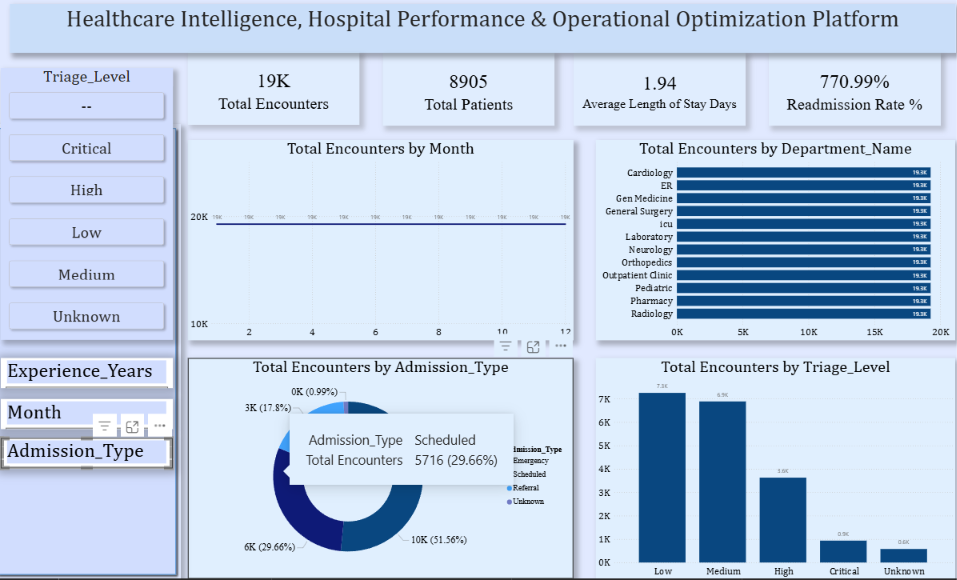

The dashboard page shown, as its layout file describes it:
{"tool":"powerbi","page":{"name":"Executive Hospital Performance","canvas":[2000,1200],"ordinal":0},"visuals":[{"type":"card","fields":{"Values":["healthcare bed_occupancy_clean.Total Encounters"]},"box":[398.6,122.6,351.4,148.6],"z":0},{"type":"card","fields":{"Values":["healthcare bed_occupancy_clean.Total Patients"]},"box":[797.2,125,351.4,148.6],"z":1000},{"type":"card","fields":{"Values":["healthcare bed_occupancy_clean.Average Length of Stay Days"]},"box":[1188.7,125,351.4,148.6],"z":2000},{"type":"card","fields":{"Values":["healthcare bed_occupancy_clean.Readmission Rate %"]},"box":[1587.3,125,351.4,148.6],"z":3000},{"type":"lineChart","fields":{"Category":["healthcare calendar_clean.Month"],"Y":["healthcare bed_occupancy_clean.Total Encounters"]},"box":[398.8,302.3,789,409.5],"z":4000},{"type":"clusteredColumnChart","fields":{"Y":["healthcare bed_occupancy_clean.Total Encounters"],"Category":["healthcare encounters_clean.Triage_Level"]},"box":[1232.9,748.3,735.4,452.4],"z":5000},{"type":"donutChart","fields":{"Category":["healthcare encounters_clean.Admission_Type"],"Y":["healthcare bed_occupancy_clean.Total Encounters"]},"box":[398.8,748.3,789,452.4],"z":6000},{"type":"clusteredBarChart","fields":{"Category":["healthcare departments_clean.Department_Name"],"Y":["healthcare bed_occupancy_clean.Total Encounters"]},"box":[1232.9,302.3,735.4,409.5],"z":7000},{"type":"shape","box":[0,270.2,383.8,930.5],"z":8000},{"type":"slicer","fields":{"Values":["healthcare staff_clean.Experience_Years"]},"box":[16.4,748.5,351.7,61.4],"z":9000},{"type":"slicer","fields":{"Values":["healthcare encounters_clean.Admission_Type"]},"box":[16.4,912.1,351.7,63.4],"z":10000},{"type":"slicer","fields":{"Values":["healthcare calendar_clean.Month"]},"box":[16.4,832.3,351.7,61.4],"z":11000},{"type":"advancedSlicerVisual","fields":{"Values":["healthcare encounters_clean.Triage_Level"]},"box":[16.4,155.4,351.7,556.2],"z":12000},{"type":"textbox","box":[34.8,24.5,1934.6,100.2],"z":21000}]}

Visuals, with their boxes in screenshot pixels (x1, y1, x2, y2), scaled from the page's 2000x1200 canvas onto the 957x580 screenshot:
card - healthcare bed_occupancy_clean.Total Encounters: bbox=[191, 59, 359, 131]
card - healthcare bed_occupancy_clean.Total Patients: bbox=[381, 60, 550, 132]
card - healthcare bed_occupancy_clean.Average Length of Stay Days: bbox=[569, 60, 737, 132]
card - healthcare bed_occupancy_clean.Readmission Rate %: bbox=[760, 60, 928, 132]
lineChart - healthcare calendar_clean.Month x healthcare bed_occupancy_clean.Total Encounters: bbox=[191, 146, 568, 344]
clusteredColumnChart - healthcare bed_occupancy_clean.Total Encounters x healthcare encounters_clean.Triage_Level: bbox=[590, 362, 942, 579]
donutChart - healthcare encounters_clean.Admission_Type x healthcare bed_occupancy_clean.Total Encounters: bbox=[191, 362, 568, 579]
clusteredBarChart - healthcare departments_clean.Department_Name x healthcare bed_occupancy_clean.Total Encounters: bbox=[590, 146, 942, 344]
shape: bbox=[0, 131, 184, 579]
slicer - healthcare staff_clean.Experience_Years: bbox=[8, 362, 176, 391]
slicer - healthcare encounters_clean.Admission_Type: bbox=[8, 441, 176, 471]
slicer - healthcare calendar_clean.Month: bbox=[8, 402, 176, 432]
advancedSlicerVisual - healthcare encounters_clean.Triage_Level: bbox=[8, 75, 176, 344]
textbox: bbox=[17, 12, 942, 60]
